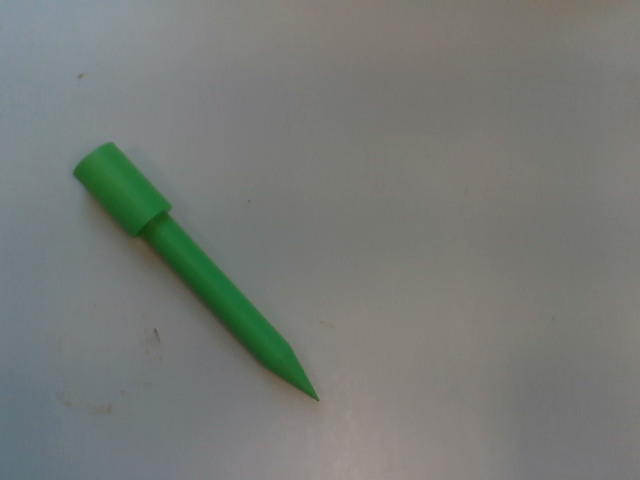Probe: (68, 135, 328, 410)
